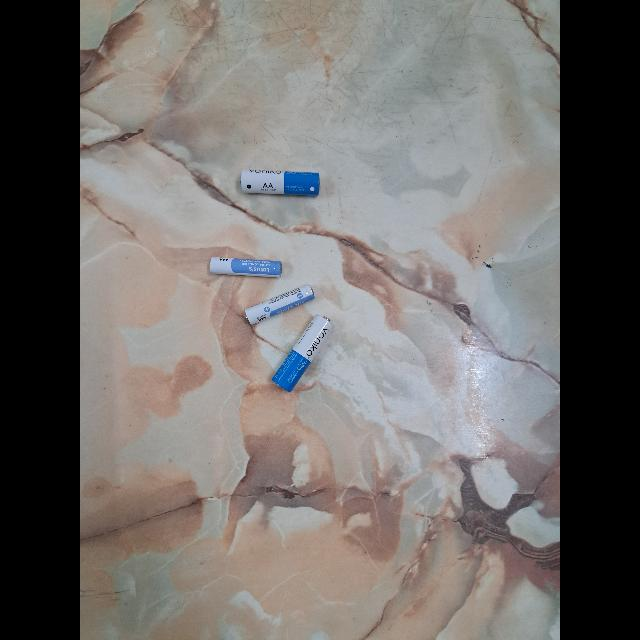bateria: (270, 314, 334, 392), (242, 284, 316, 326), (238, 166, 322, 198), (209, 256, 283, 280)
